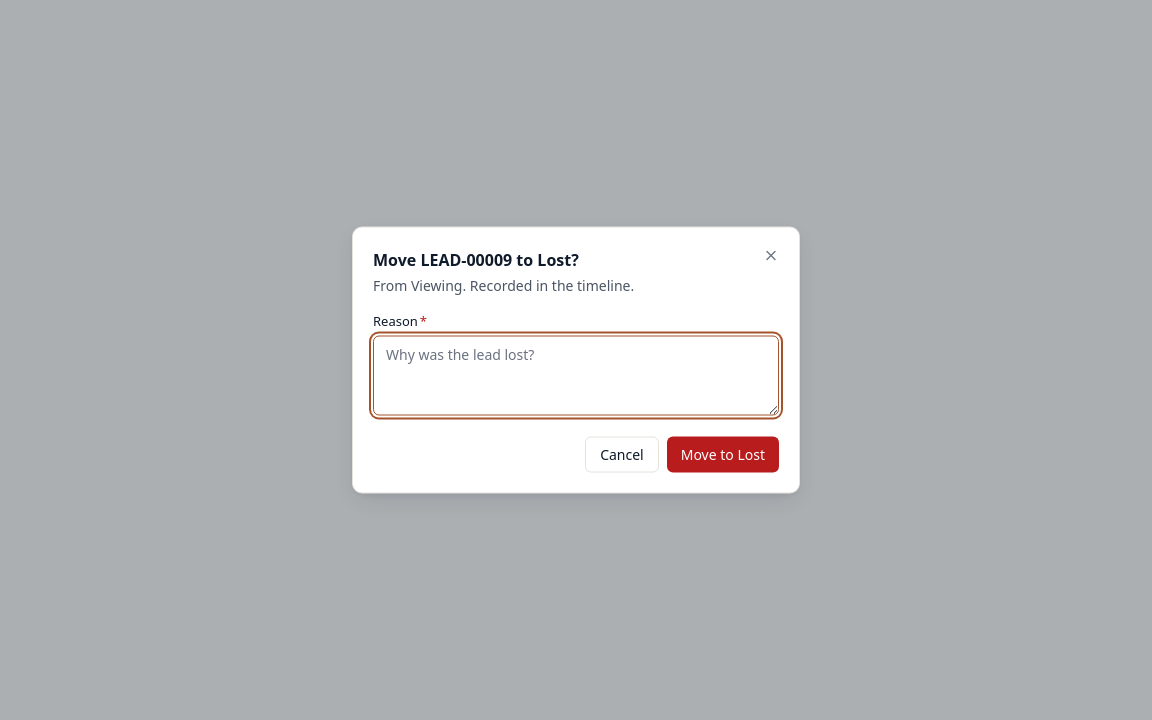
stage dialog › requires a reason to close a lead before calling the API
Later steps or results of the test are not shown.
Click the button "Move to Lost": point(723, 454) [667,436,779,472]
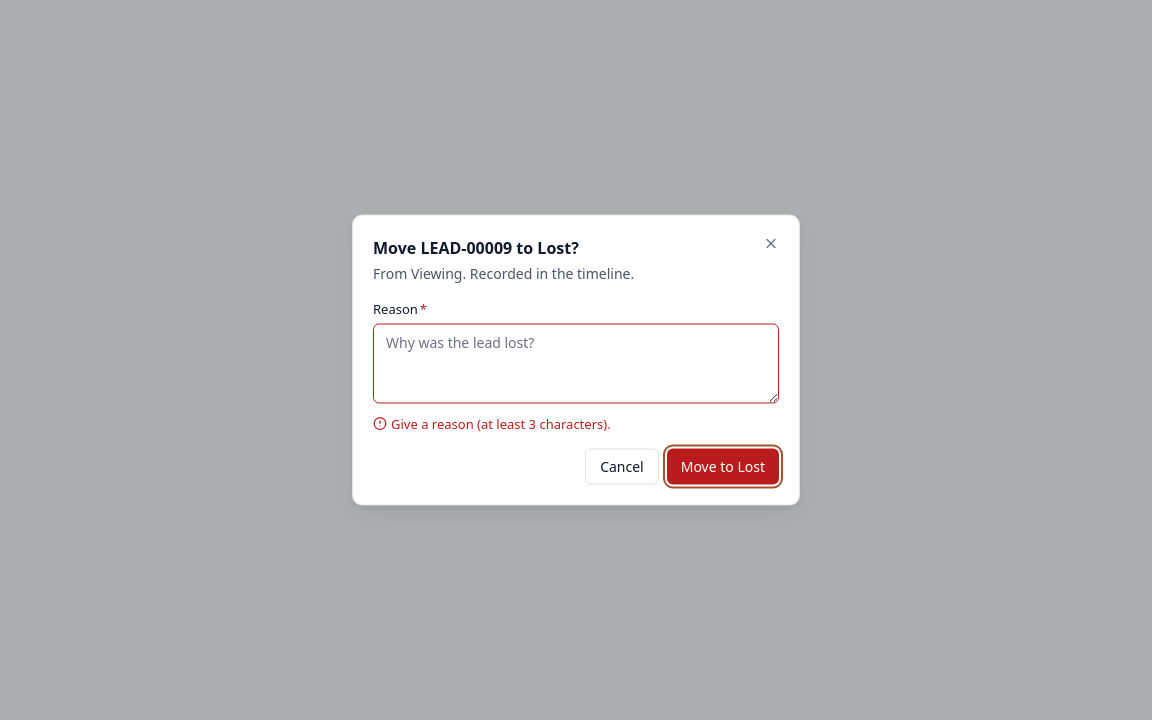
Check: the text "Give a reason (at least 3 characters)." is shown, box [373,414,611,432]
